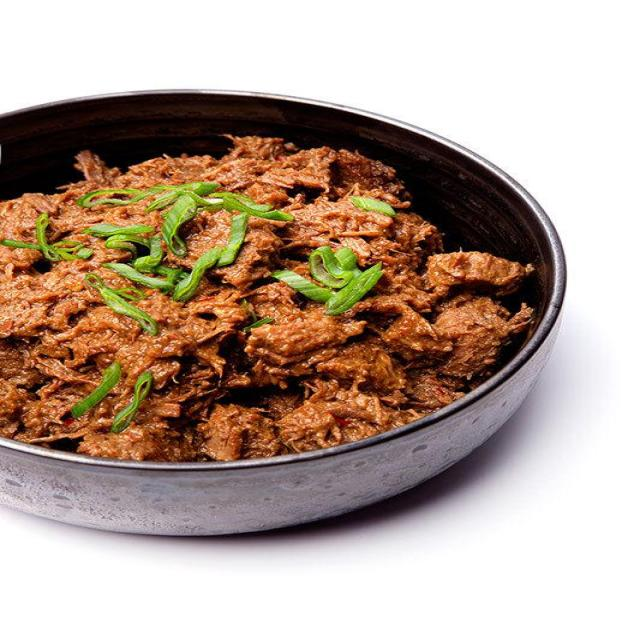Rendang: (0, 145, 543, 461)
